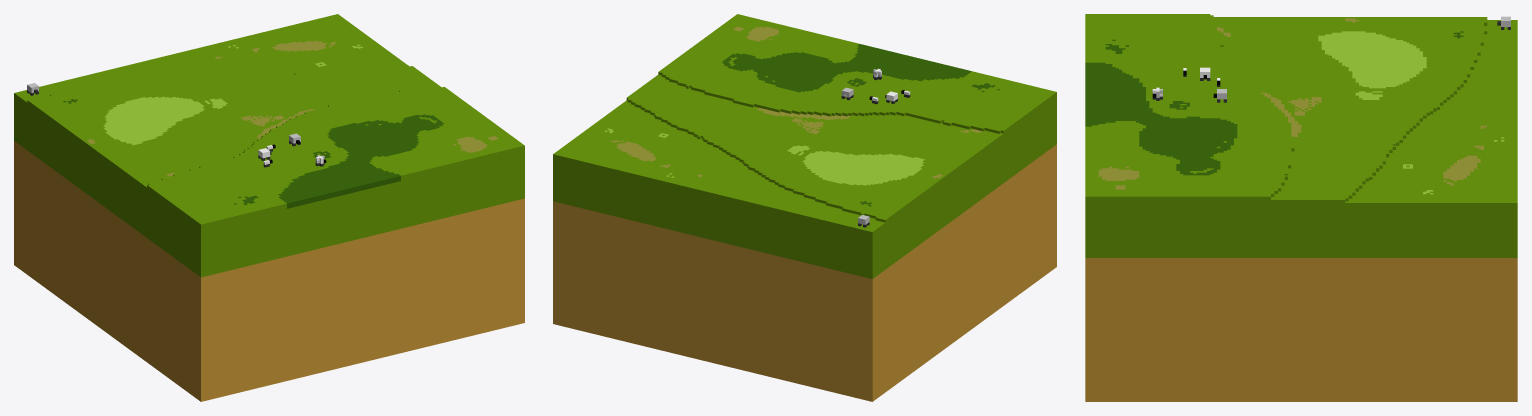
3 views of the same model, side by side, from view 1: azimuth 30°, elevation 25°; view 2: azimuth 150°, elevation 25°; view 3: azimuth 270°, elevation 25° (orthographic). The views are drawn at different scales.
Parts seen in each view (by area): view 1: 2A; view 2: 2A; view 3: 2A.
Part boxes in pixels (box(x1,y1,x2,y2)): 2A: box(14, 14, 524, 401); 2A: box(553, 14, 1056, 401); 2A: box(1085, 14, 1517, 401).
Size of the model in its own units: 12.8 by 7 by 12.8.
Materials: 1 (1 with a texture image).
